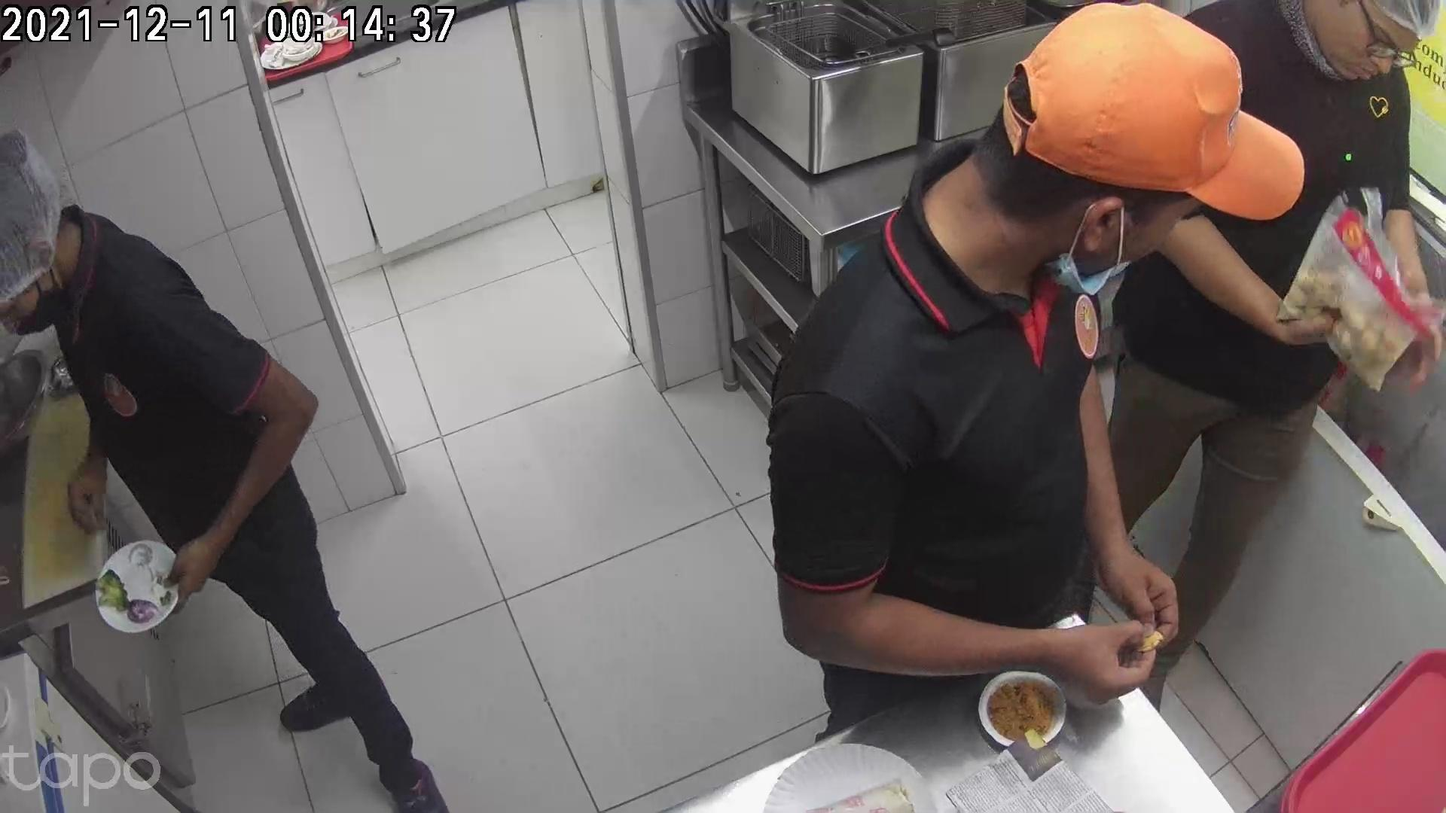gloves: (872, 623, 995, 745)
no_gloves: (1026, 590, 1113, 727)
